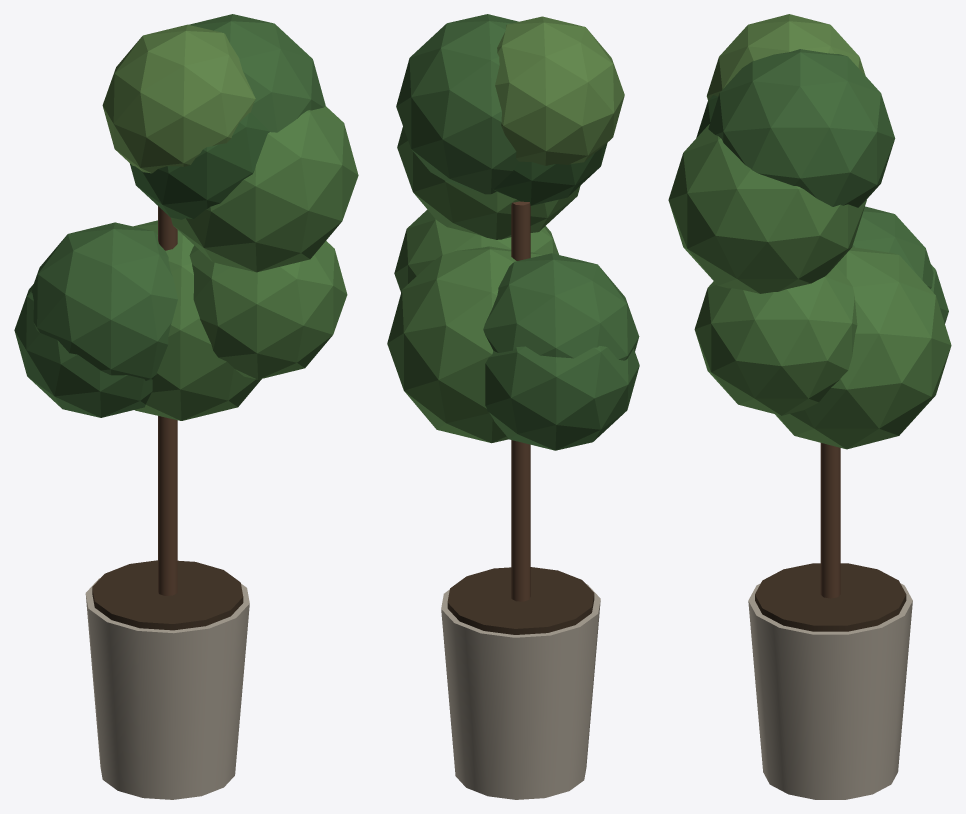
Rendered from vaso-ficus.glb.
The picture shows the model from 3 angles, left to right: view 1: azimuth 30°, elevation 25°; view 2: azimuth 150°, elevation 25°; view 3: azimuth 270°, elevation 25°; orthographic projection. The views are drawn at different scales.
Visible parts, largest first — view 1: vaso-ficus_malha; view 2: vaso-ficus_malha; view 3: vaso-ficus_malha.
Boxes of the visible parts, x1,y1,x2,y2 form: vaso-ficus_malha: (14,14,358,799); vaso-ficus_malha: (387,14,639,799); vaso-ficus_malha: (668,14,951,799).
Size of the model in its own units: 0.6802 by 1.81 by 0.6191.
